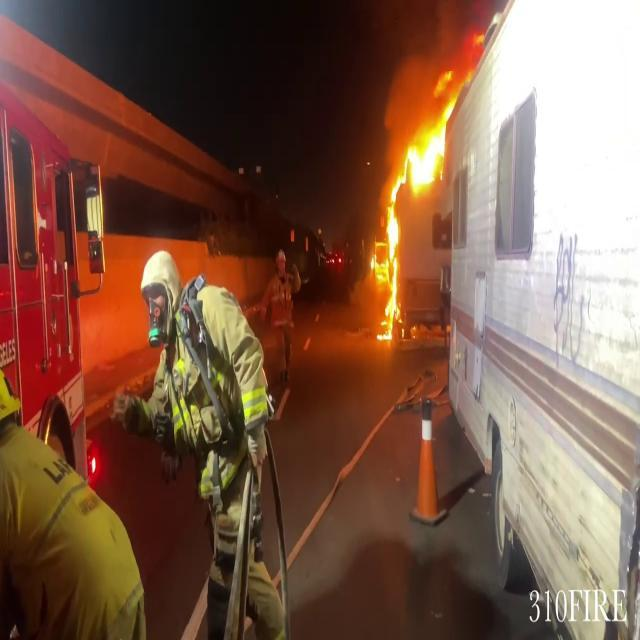Fire: (372, 53, 462, 336)
